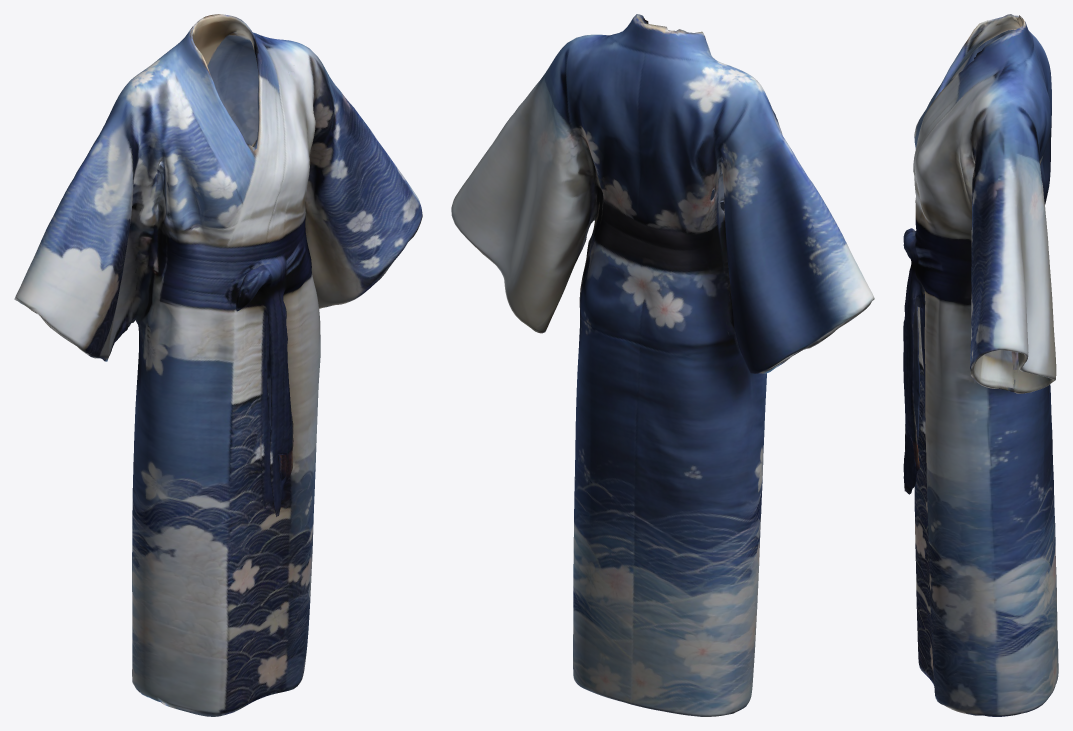
Rendered from Yukata.glb.
3 renders of one model, left to right at view 1: azimuth 30°, elevation 25°; view 2: azimuth 150°, elevation 25°; view 3: azimuth 270°, elevation 25°, orthographic. The views are drawn at different scales.
Bounding box in the file's own units: 1.28 × 2 × 0.4245.
1 material, 1 textured.
